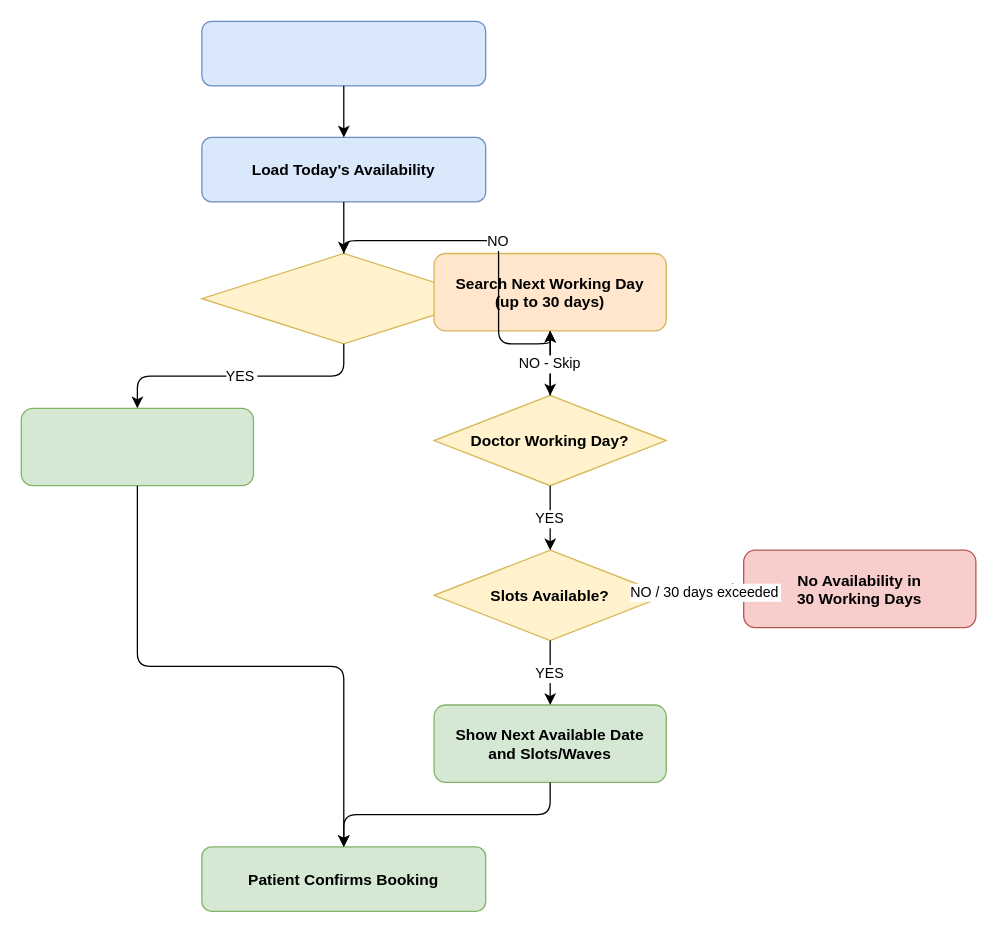
Some shapes in this 997 by 933 pixel diagram are drawn without their labels. Here are the shapes that lost their labels. From the top down, the box of each, then its label:
(201, 20, 486, 86): Patient Selects Doctor
(201, 252, 486, 344): Slots Available Today?
(20, 407, 253, 486): Show Today's Slots Allow Booking
